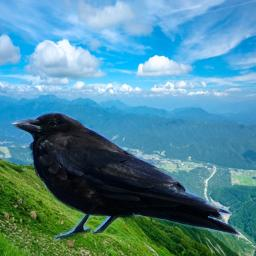Crow: (8, 111, 242, 241)
